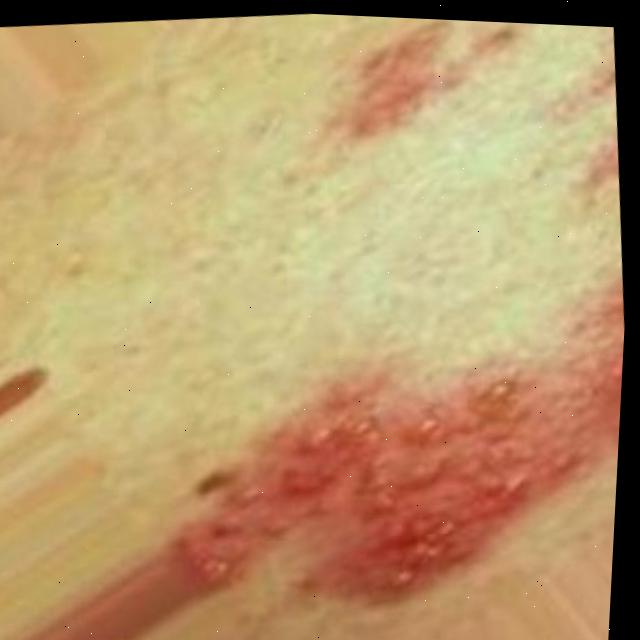Shingles: (153, 250, 627, 629), (336, 15, 520, 158)
